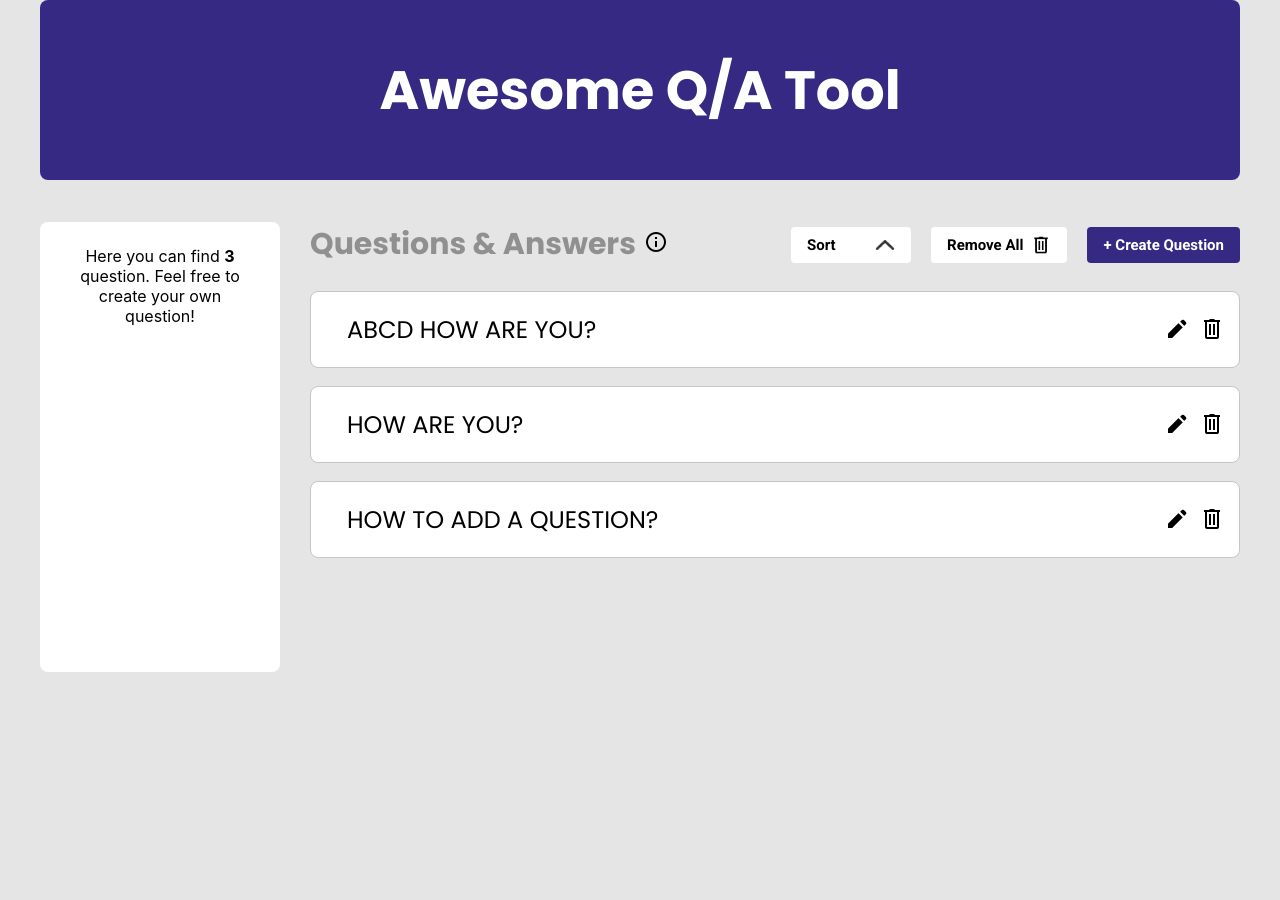
Test: Question Answers › create question with add delay works as expected
Click the button with test id "create-button" at x=1164, y=244, box x1=1087 y1=226 x2=1240 y2=262
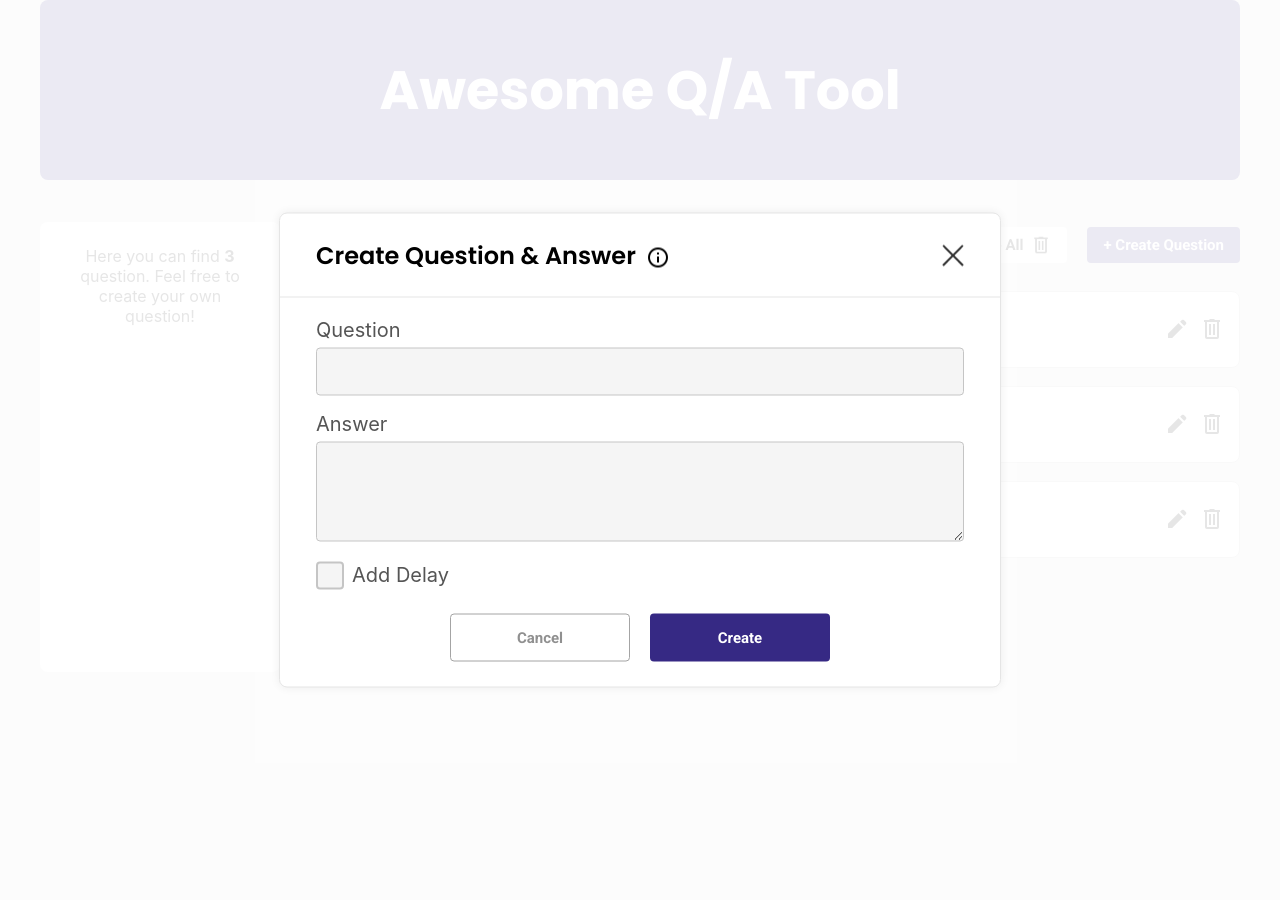
Type "Whats up?" into the field with test id "form-input" at x=640, y=372, box x1=316 y1=348 x2=964 y2=396
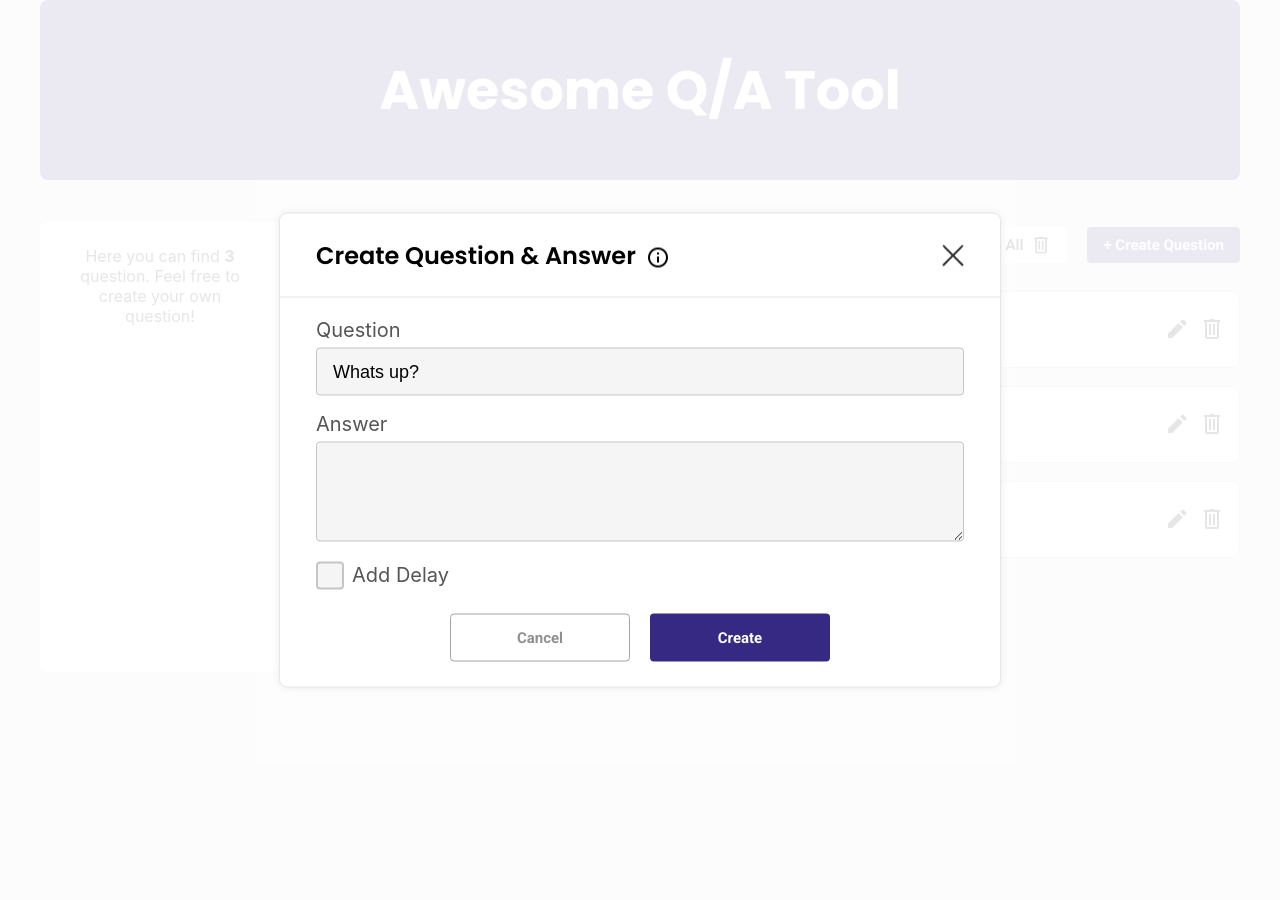
Type "All good" into the text box with test id "text-area" at x=640, y=492, box x1=316 y1=442 x2=964 y2=542
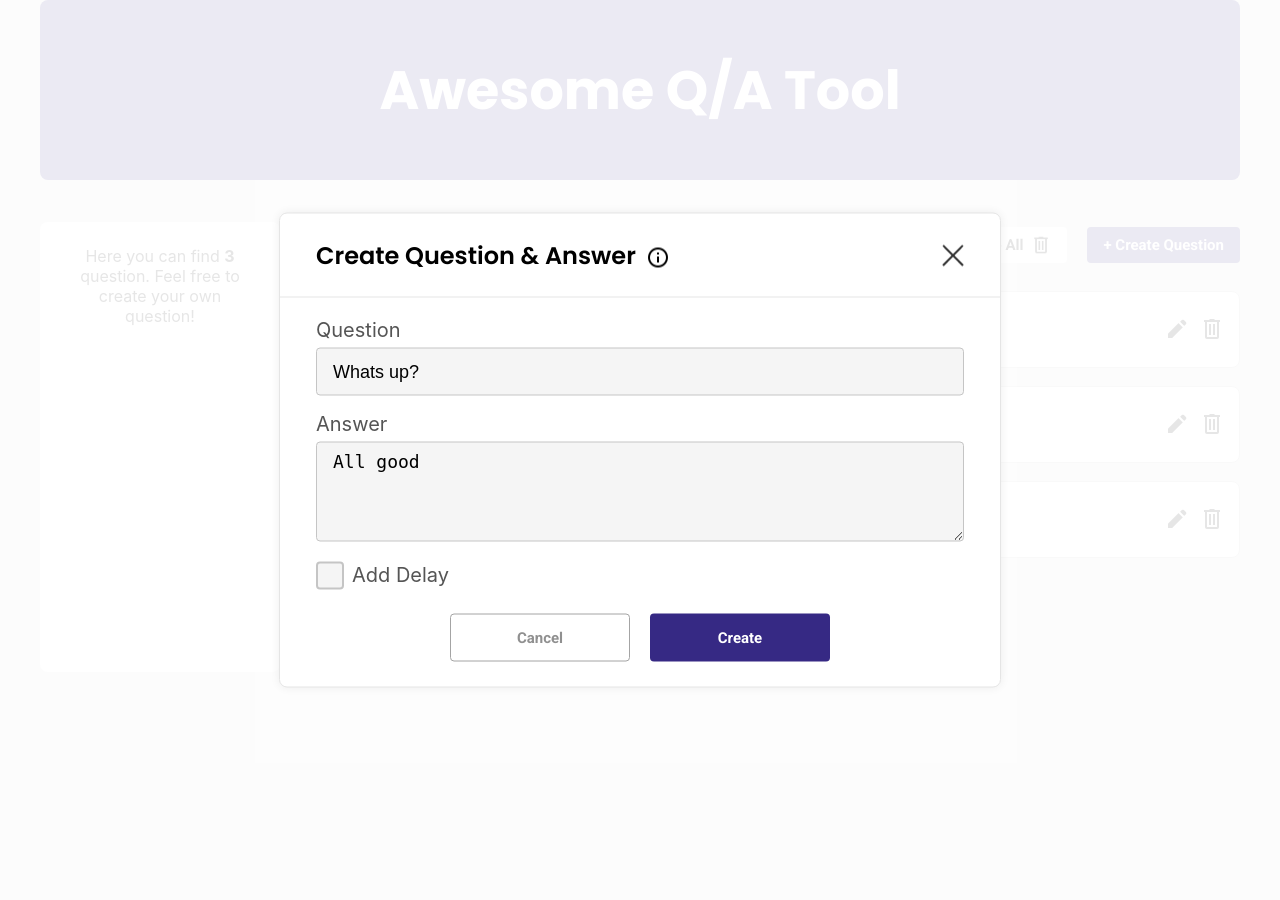
Click the text "Add Delay" at x=400, y=574, box x1=352 y1=562 x2=449 y2=588
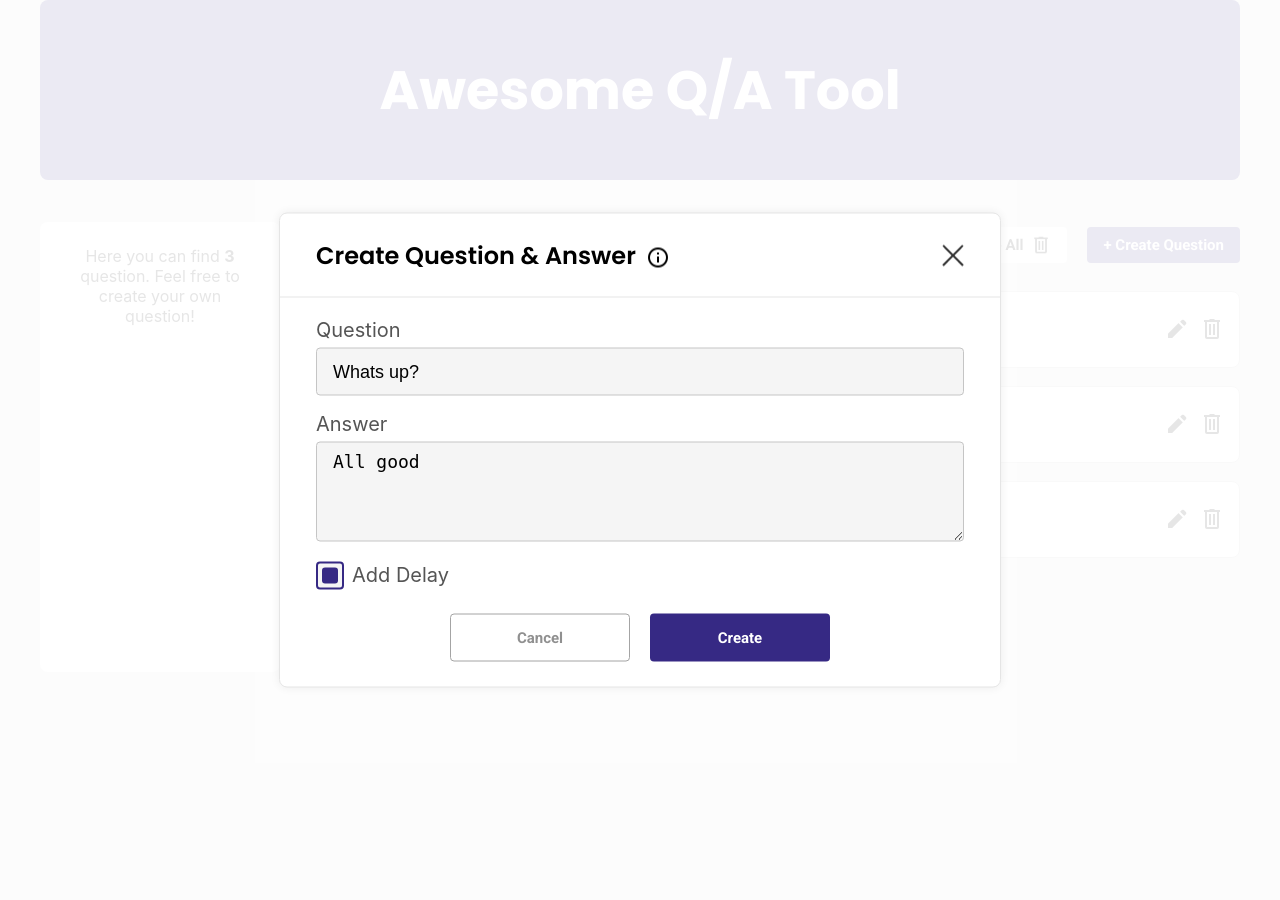
Click the button "Create" at x=740, y=638, box x1=650 y1=614 x2=830 y2=662
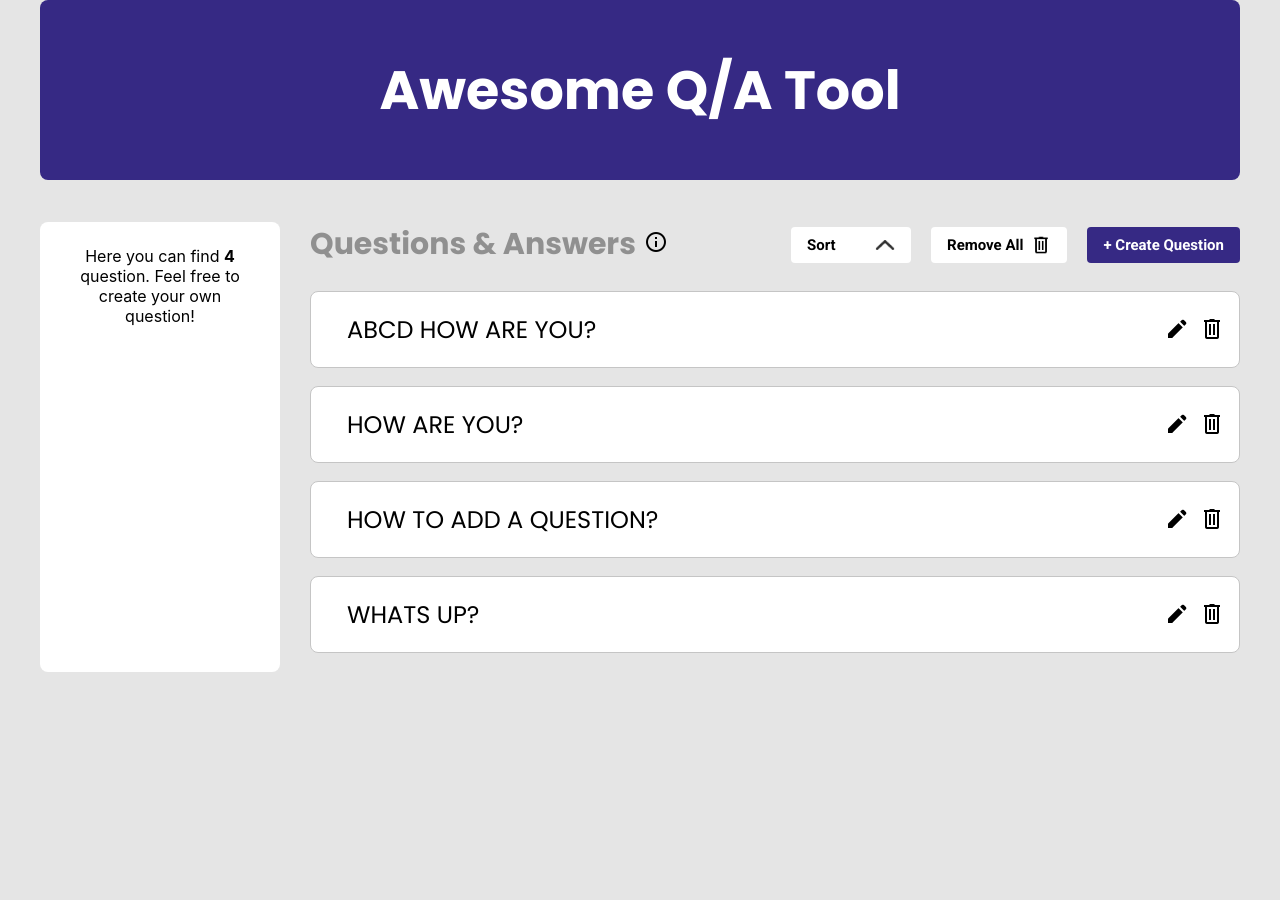
Expected: the heading "Whats up?" is shown, x1=347 y1=597 x2=1203 y2=632
